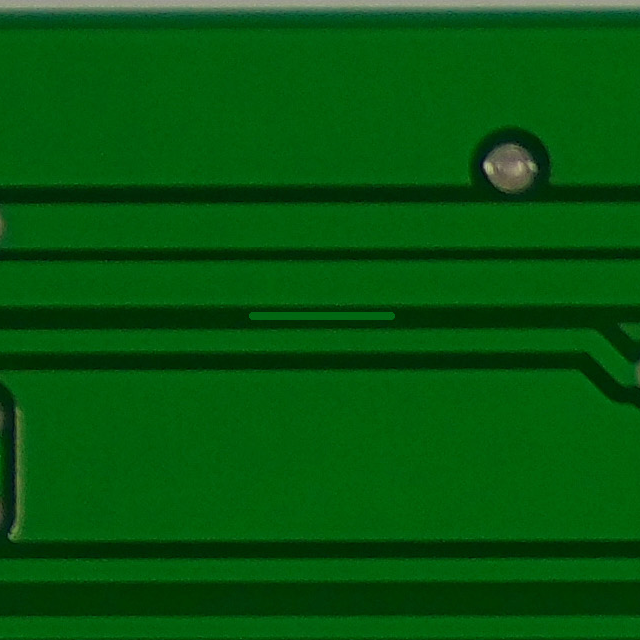spurious_copper: (232, 293, 408, 348)
